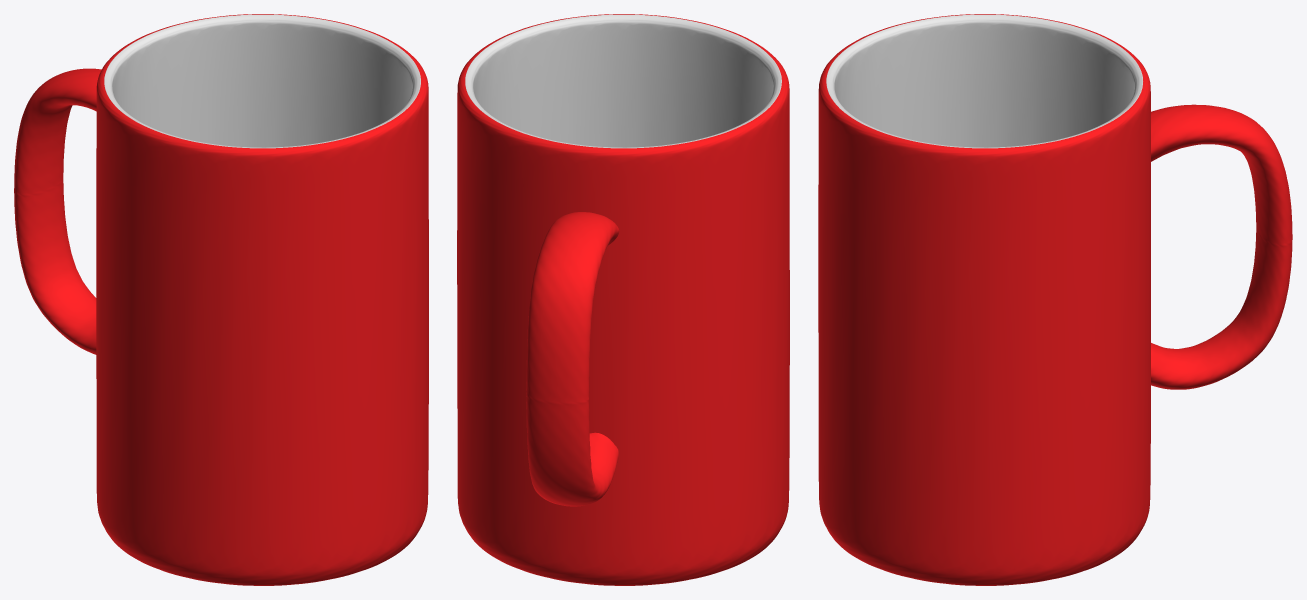
The picture shows the model from 3 angles, left to right: view 1: azimuth 30°, elevation 25°; view 2: azimuth 150°, elevation 25°; view 3: azimuth 270°, elevation 25°; orthographic projection.
Parts seen in each view (by area): view 1: cup2_obj_0; view 2: cup2_obj_0; view 3: cup2_obj_0.
Boxes of the visible parts, bbox=[...] form: cup2_obj_0: bbox=[14, 14, 428, 585]; cup2_obj_0: bbox=[457, 14, 789, 585]; cup2_obj_0: bbox=[818, 14, 1292, 585].
Size of the model in its own units: 0.7883 by 1.15 by 1.12.
